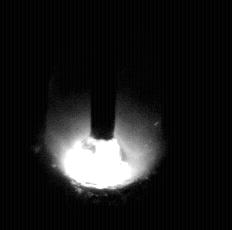arame: (92, 0, 116, 140)
poca: (43, 0, 166, 230)
